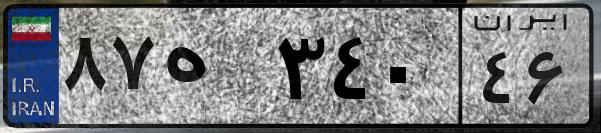0: (385, 28, 445, 110)
3: (270, 28, 330, 110)
4: (330, 28, 385, 110), (475, 38, 525, 113)
6: (525, 38, 570, 115)
7: (110, 28, 158, 98)
8: (57, 26, 110, 100)
ه: (158, 20, 270, 120)
